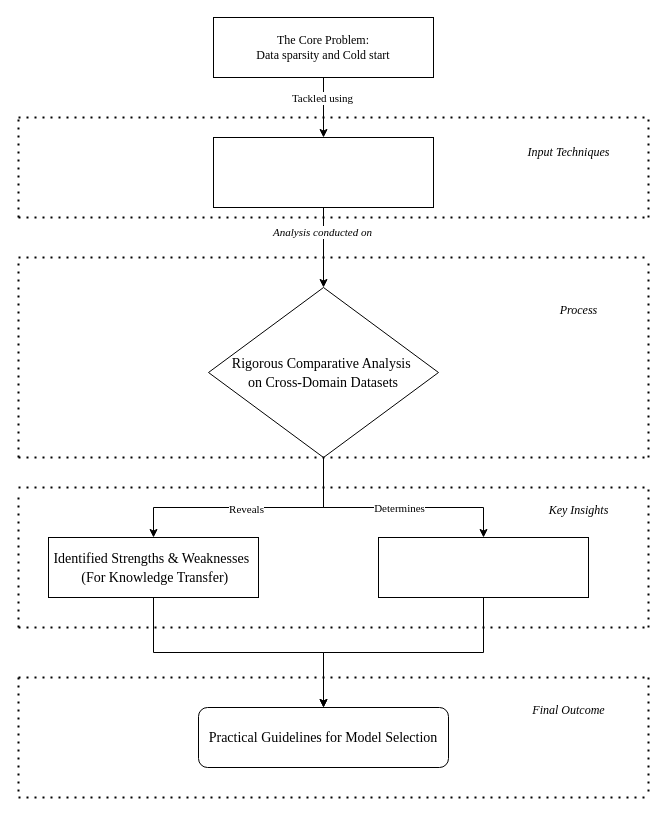
Image size: 667x817. Some labels were removed from this diagram. The shapes that lost their labels are listed below. From the top down, each one's centre as x and y in pixels, then its label:
(323,172): Six Decomposition Methods MF, NMF, SVD, ALS, etc.
(483,567): Best Methods For Data Sparsity & Cold Start
